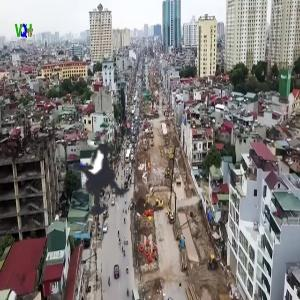drone: (24, 100, 188, 264)
